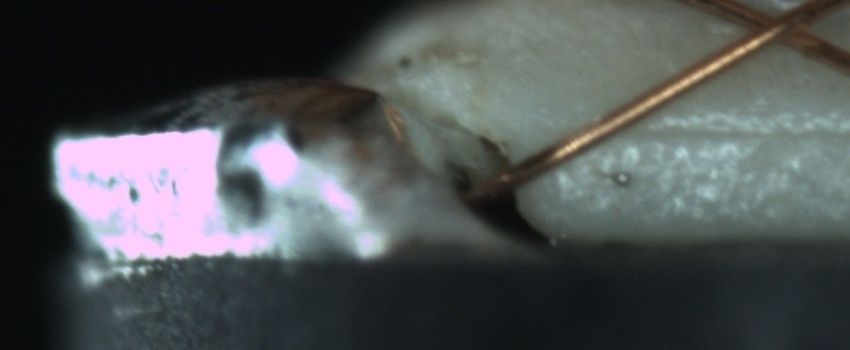CL: (725, 0, 832, 60)
DL: (613, 98, 842, 164)
